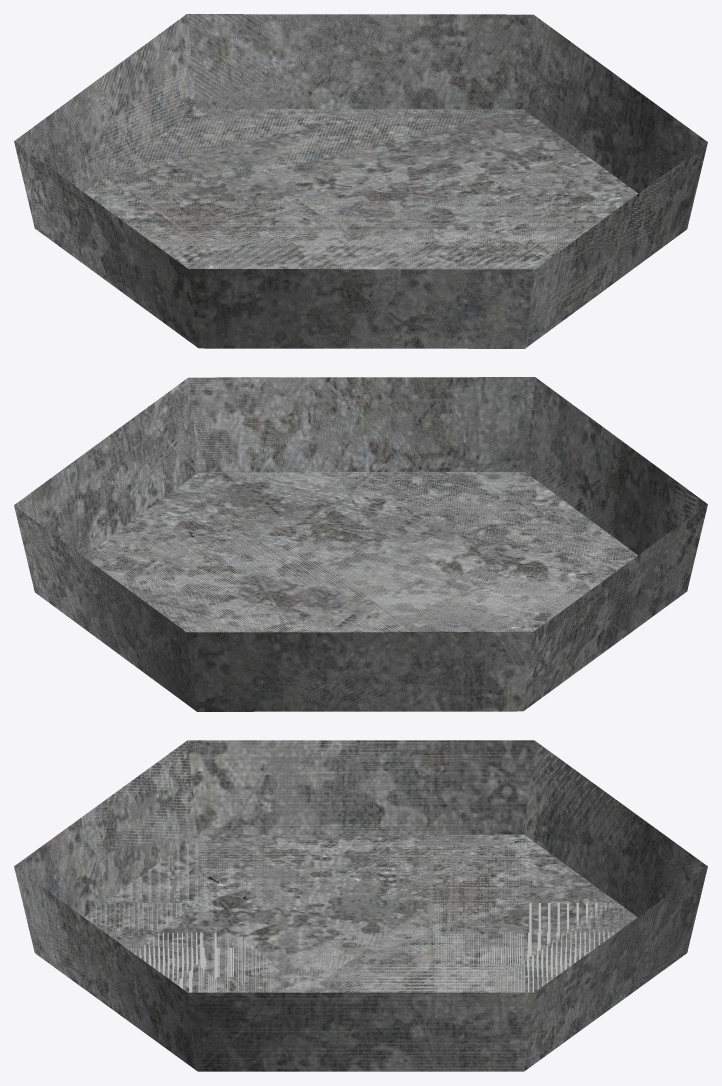
Rendered from original-3.obj.
3 views of the same model, one above another, from view 1: azimuth 30°, elevation 25°; view 2: azimuth 150°, elevation 25°; view 3: azimuth 270°, elevation 25° (orthographic).
Parts seen in each view (by area): view 1: 3dw.d32af00b6b170bebeefb4d7820758668/Model/mesh1/mesh1-geometry/; view 2: 3dw.d32af00b6b170bebeefb4d7820758668/Model/mesh1/mesh1-geometry/; view 3: 3dw.d32af00b6b170bebeefb4d7820758668/Model/mesh1/mesh1-geometry/.
Boxes of the visible parts, x1=… form: 3dw.d32af00b6b170bebeefb4d7820758668/Model/mesh1/mesh1-geometry/: x1=14, y1=14, x2=707, y2=348; 3dw.d32af00b6b170bebeefb4d7820758668/Model/mesh1/mesh1-geometry/: x1=14, y1=377, x2=707, y2=711; 3dw.d32af00b6b170bebeefb4d7820758668/Model/mesh1/mesh1-geometry/: x1=14, y1=740, x2=707, y2=1071.
Size of the model in its own units: 0.7337 by 0.1176 by 0.8531.
